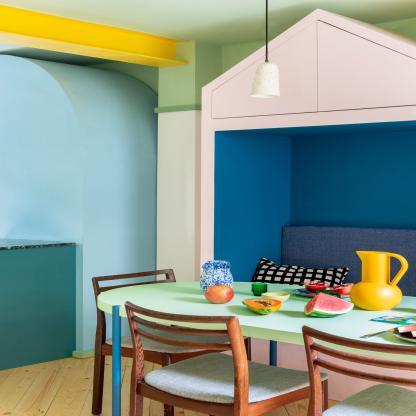chair: (86, 259, 232, 416), (114, 309, 327, 416), (297, 322, 416, 416)
light: (244, 0, 284, 106)
sofa: (263, 218, 416, 356)
table: (92, 281, 416, 415), (0, 234, 79, 371)
